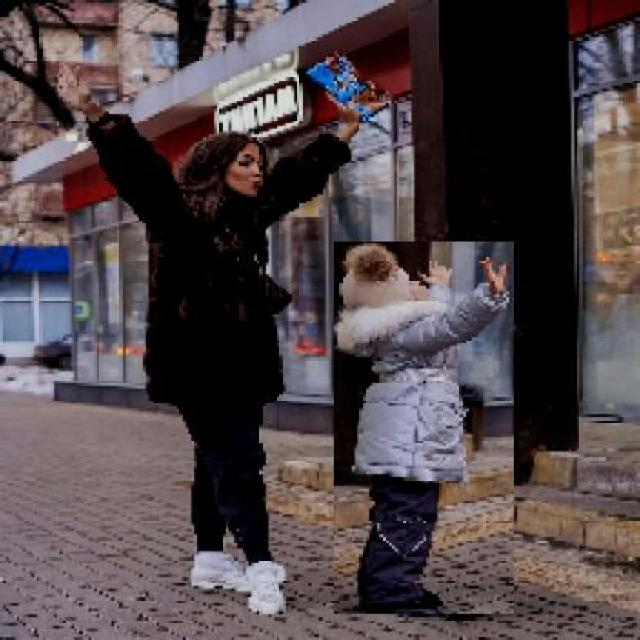child: (332, 242, 514, 616)
